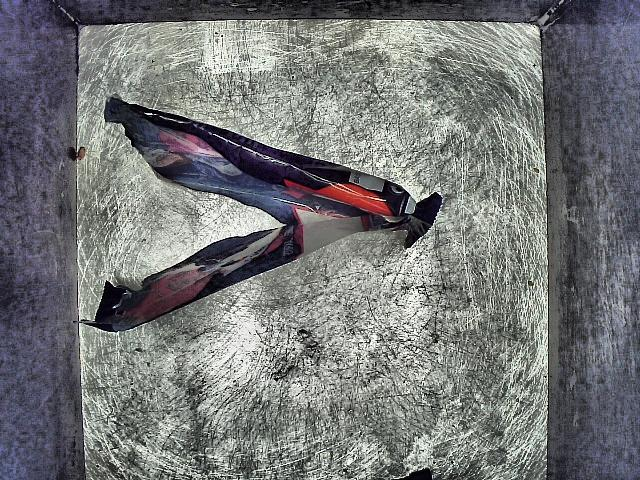Plastic: (80, 81, 443, 341)
